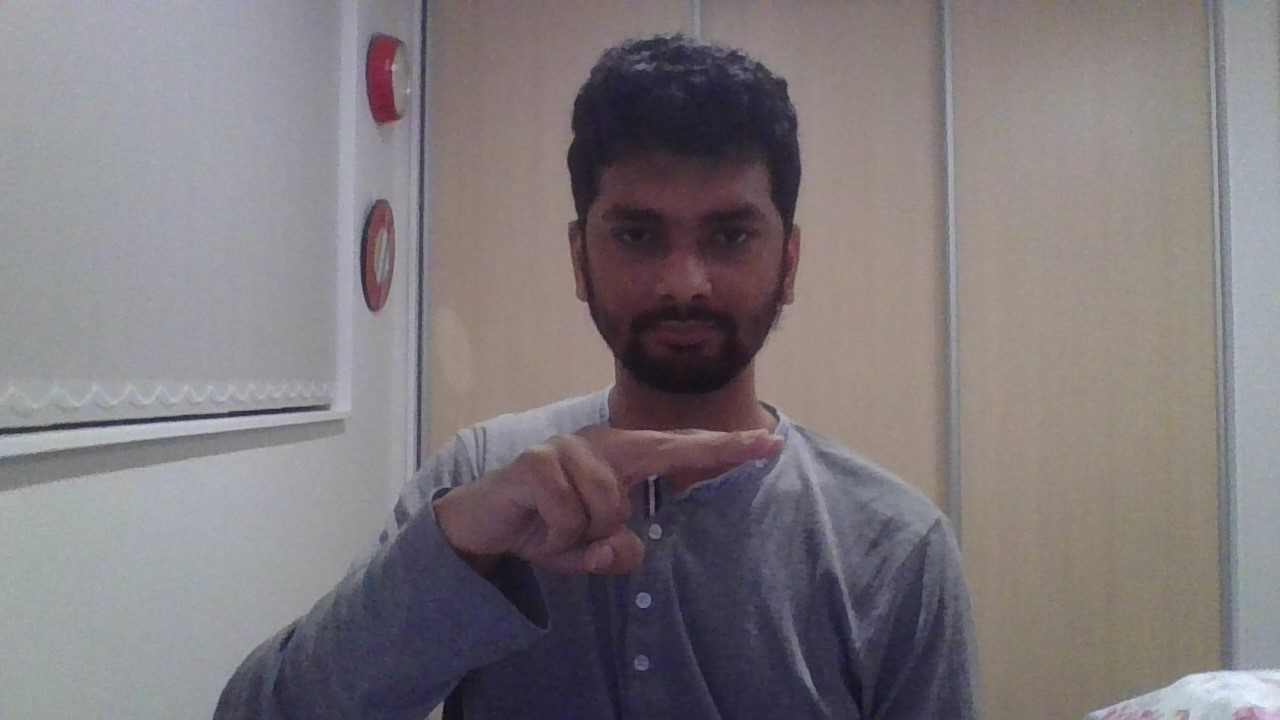look_around: (432, 424, 786, 575)
